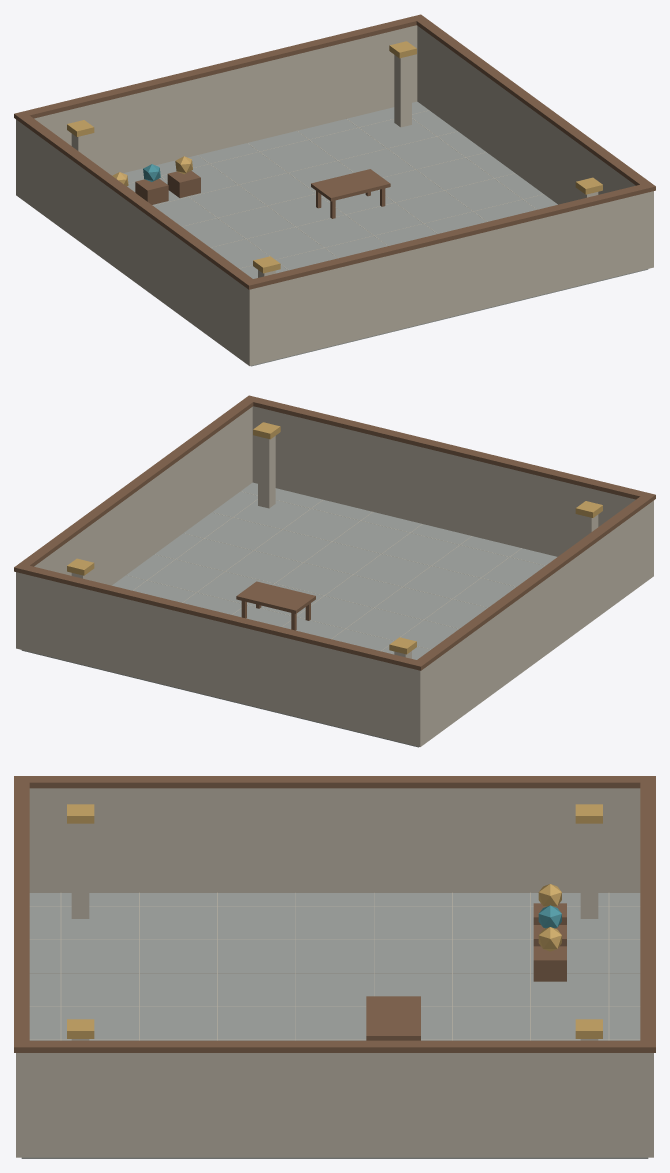
The model's file is sample_hall.glb.
3 views of the same model, one above another, from view 1: azimuth 30°, elevation 25°; view 2: azimuth 150°, elevation 25°; view 3: azimuth 270°, elevation 25° (orthographic). The views are drawn at different scales.
Visible parts, largest first — view 1: floor, wall_z_1, wall_z_-1, wall_x_-1, wall_x_1, wall_cap_z_1, wall_cap_z_-1, wall_cap_x_-1, wall_cap_x_1, table_top, column_6.5_-6.5, display_base_-2.9 (+1 smaller); view 2: floor, wall_z_-1, wall_z_1, wall_x_-1, wall_x_1, wall_cap_z_-1, wall_cap_z_1, wall_cap_x_-1, wall_cap_x_1, table_top, column_6.5_6.5; view 3: floor, wall_x_1, wall_x_-1, wall_cap_x_1, wall_cap_x_-1, wall_cap_z_-1, wall_cap_z_1, table_top, column_-6.5_-6.5, column_-6.5_6.5, display_base_-2.9, wall_z_-1 (+7 smaller).
Part boxes in pixels (<box>): floor: <box>123,101,648,366</box>; wall_z_1: <box>246,191,653,365</box>; wall_z_-1: <box>34,25,417,175</box>; wall_x_-1: <box>16,119,256,365</box>; wall_x_1: <box>417,26,653,268</box>; wall_cap_z_1: <box>243,183,655,289</box>; wall_cap_z_-1: <box>14,14,426,118</box>; wall_cap_x_-1: <box>14,114,258,289</box>; wall_cap_x_1: <box>412,15,655,192</box>; table_top: <box>311,169,390,201</box>; column_6.5_-6.5: <box>394,55,411,127</box>; display_base_-2.9: <box>167,170,200,197</box>; floor: <box>21,482,556,747</box>; wall_z_-1: <box>16,572,420,746</box>; wall_z_1: <box>252,406,635,556</box>; wall_x_-1: <box>413,500,653,746</box>; wall_x_1: <box>34,407,252,585</box>; wall_cap_z_-1: <box>14,564,426,670</box>; wall_cap_z_1: <box>244,397,655,499</box>; wall_cap_x_-1: <box>411,495,655,670</box>; wall_cap_x_1: <box>14,395,258,569</box>; table_top: <box>236,581,315,613</box>; column_6.5_6.5: <box>258,436,275,508</box>; floor: <box>21,893,648,1158</box>; wall_x_1: <box>16,1053,653,1157</box>; wall_x_-1: <box>29,788,640,892</box>; wall_cap_x_1: <box>14,1040,654,1052</box>; wall_cap_x_-1: <box>14,776,655,788</box>; wall_cap_z_-1: <box>640,776,655,1052</box>; wall_cap_z_1: <box>14,776,29,1052</box>; table_top: <box>366,996,420,1040</box>; column_-6.5_-6.5: <box>580,823,598,918</box>; column_-6.5_6.5: <box>71,823,89,918</box>; display_base_-2.9: <box>533,946,566,981</box>; wall_z_-1: <box>642,1053,653,1157</box>.
Bounding box in the file's own units: 16.4 × 3.24 × 16.4.
